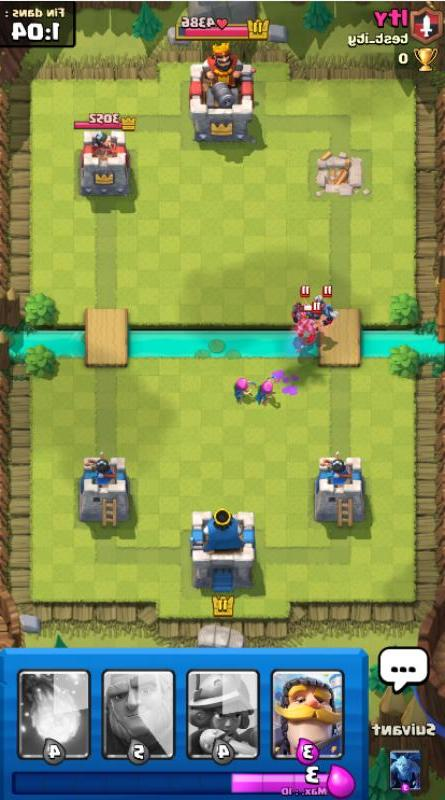archere: (254, 372, 278, 407), (232, 376, 258, 406)
gargouille: (296, 300, 321, 343), (314, 285, 339, 327), (289, 285, 314, 323)
